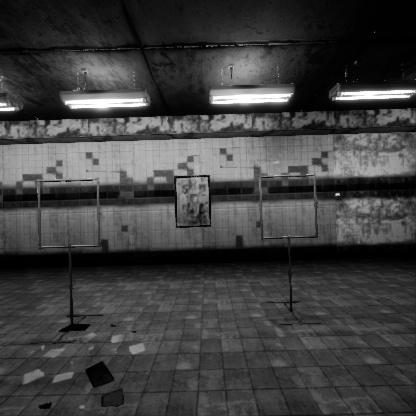gate: (37, 166, 106, 238), (258, 176, 323, 242)
